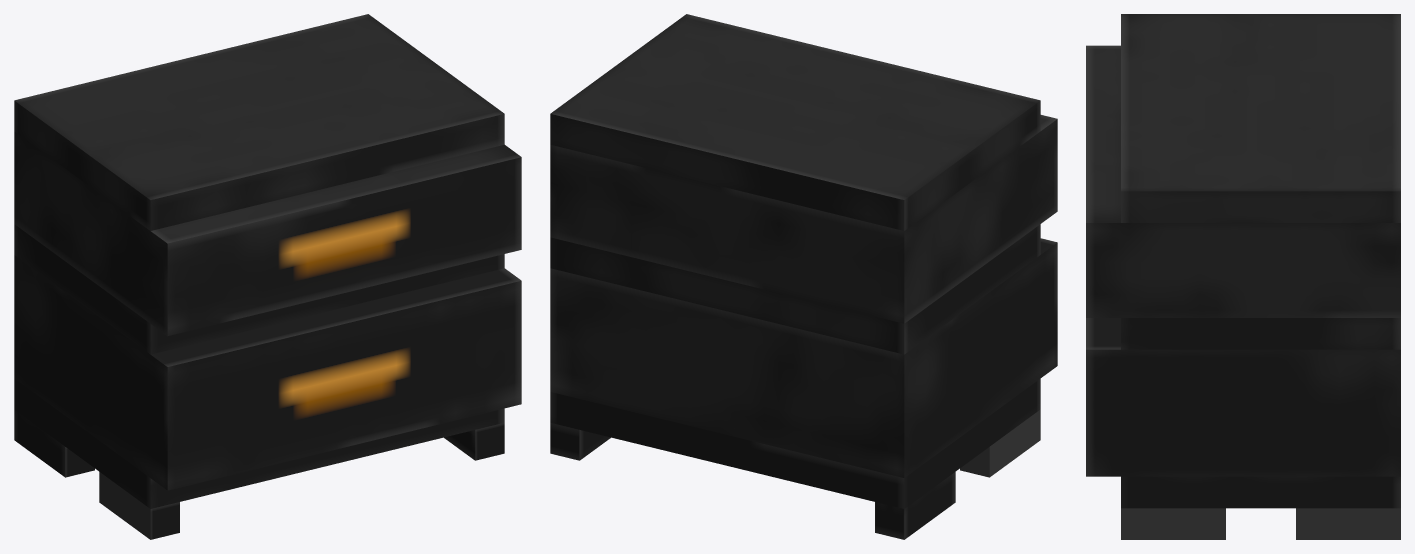
The model's file is Drawer.fbx.
The picture shows the model from 3 angles, left to right: view 1: azimuth 30°, elevation 25°; view 2: azimuth 150°, elevation 25°; view 3: azimuth 270°, elevation 25°; orthographic projection. The views are drawn at different scales.
Parts seen in each view (by area): view 1: cube_1, cube_4, cube_3, cube_2, cube, cube_8, cube_5, cube_7; view 2: cube_1, cube_4, cube_3, cube, cube_2, cube_5, cube_8, cube_6; view 3: cube_4, cube_1, cube_3, cube, cube_2, cube_6, cube_7.
Boxes of the visible parts, x1,y1,x2,y2 form: cube_1: (14, 255, 521, 490); cube_4: (14, 14, 504, 230); cube_3: (14, 131, 521, 336); cube_2: (14, 224, 504, 354); cube: (14, 379, 504, 508); cube_8: (99, 472, 179, 539); cube_5: (14, 409, 94, 477); cube_7: (444, 422, 504, 460); cube_1: (550, 238, 1057, 477); cube_4: (550, 14, 1040, 230); cube_3: (550, 115, 1057, 323); cube: (550, 379, 1040, 508); cube_2: (550, 224, 1040, 354); cube_5: (875, 472, 955, 539); cube_8: (960, 409, 1040, 477); cube_6: (550, 423, 610, 460); cube_4: (1121, 14, 1400, 222); cube_1: (1086, 318, 1400, 476); cube_3: (1086, 45, 1400, 317); cube: (1121, 476, 1400, 508); cube_2: (1121, 318, 1400, 349); cube_6: (1296, 508, 1400, 539); cube_7: (1121, 508, 1225, 539).
Size of the model in its own units: 75 by 68.75 by 56.25.
Materials: 1 (1 with a texture image).
